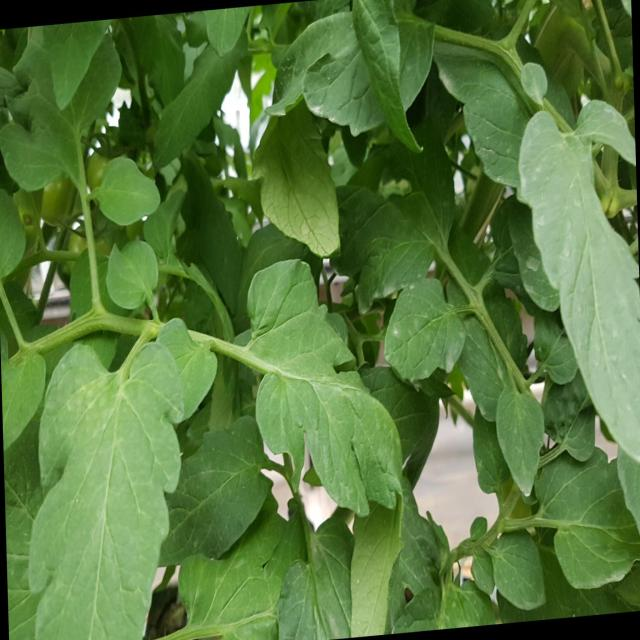Healthy Leaf: (27, 339, 187, 640), (516, 97, 640, 470), (245, 257, 406, 537), (383, 273, 468, 390), (494, 384, 548, 502), (98, 153, 164, 231)
